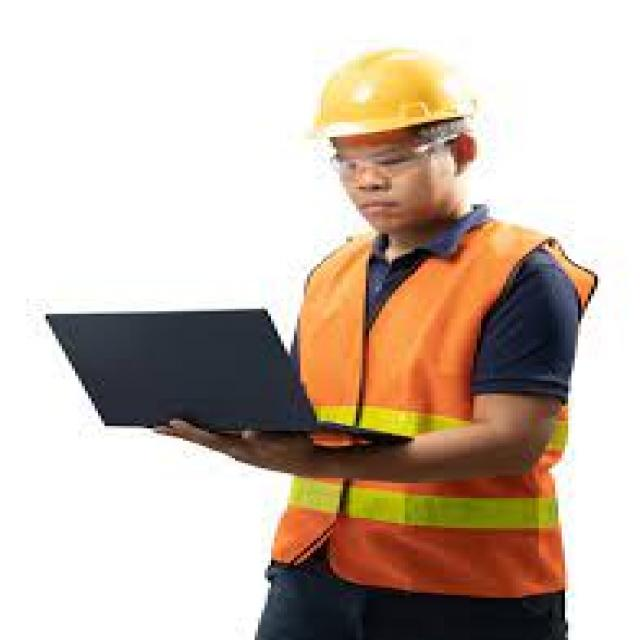Reflective-Jacket: (258, 219, 581, 603)
Safety-Helmet: (304, 40, 486, 147)
